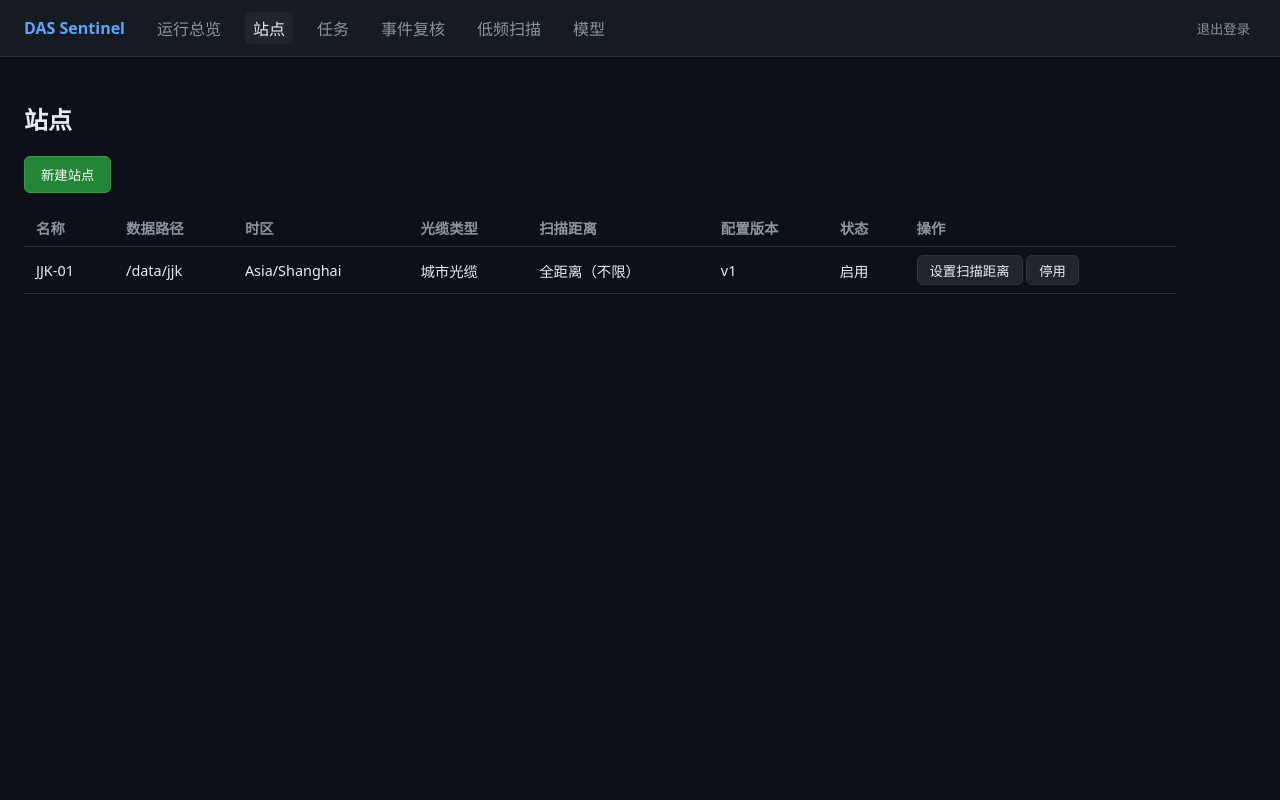
Scenario: rejects invalid scan distance -1 to  before saving
Click the button "设置扫描距离".
click(970, 270)  # box left=916, top=255, right=1022, bottom=285
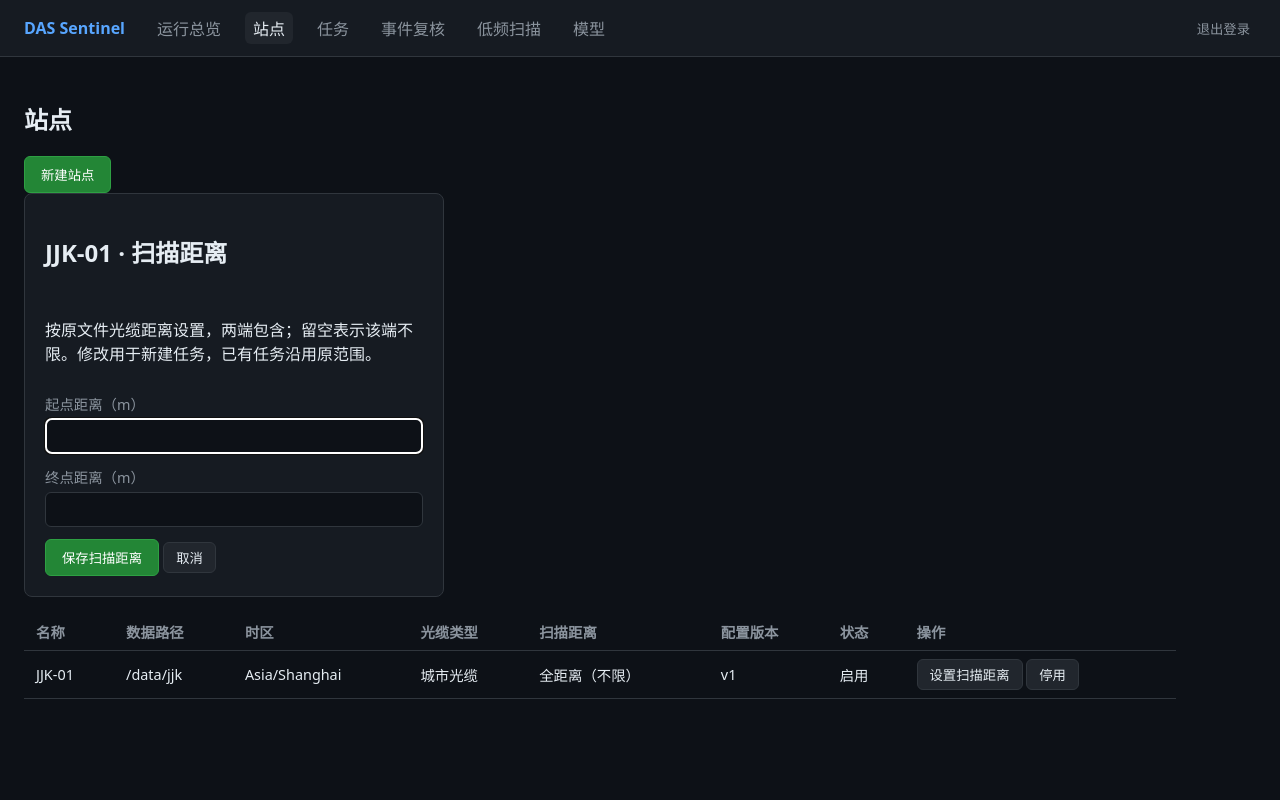
Type "-1" into the field labelled "起点距离（m）".
click(234, 436); type("-1")  # box left=45, top=418, right=423, bottom=454
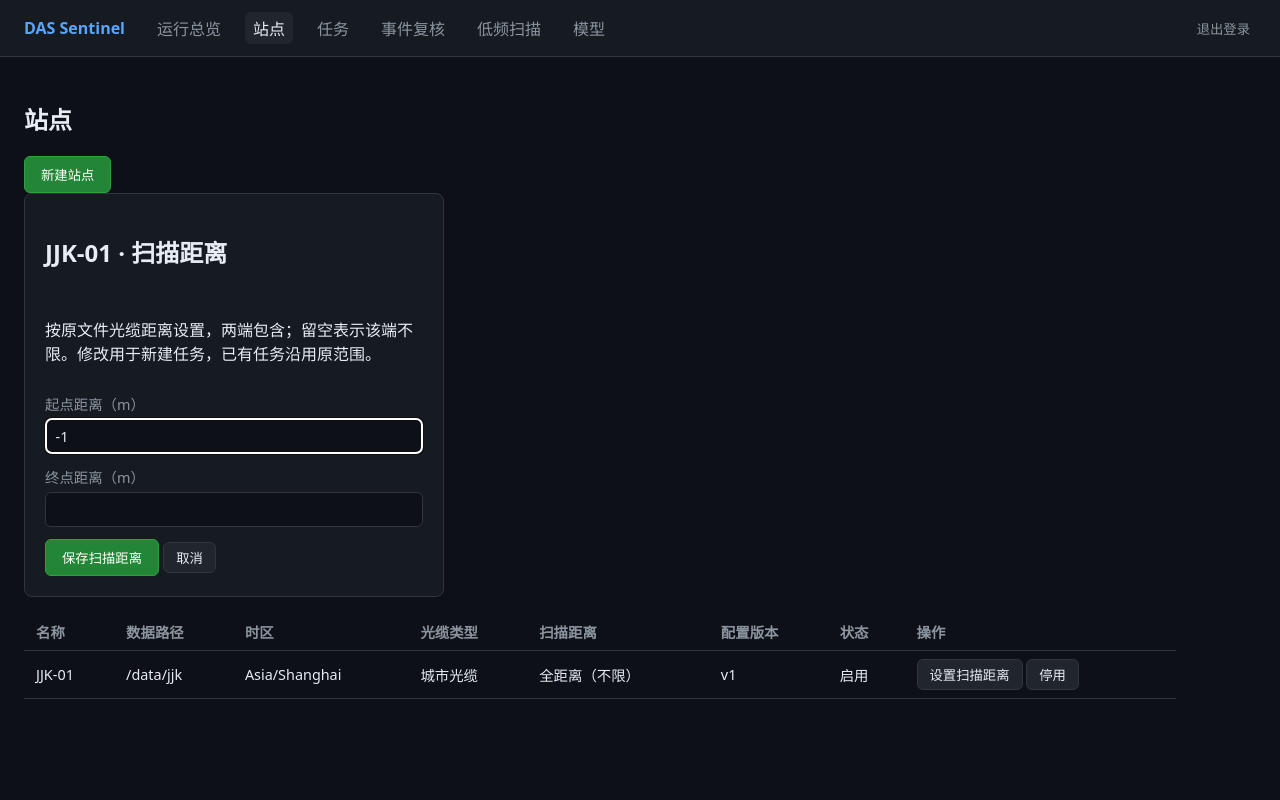
Click the button "保存扫描距离".
click(102, 558)  # box left=45, top=539, right=159, bottom=576
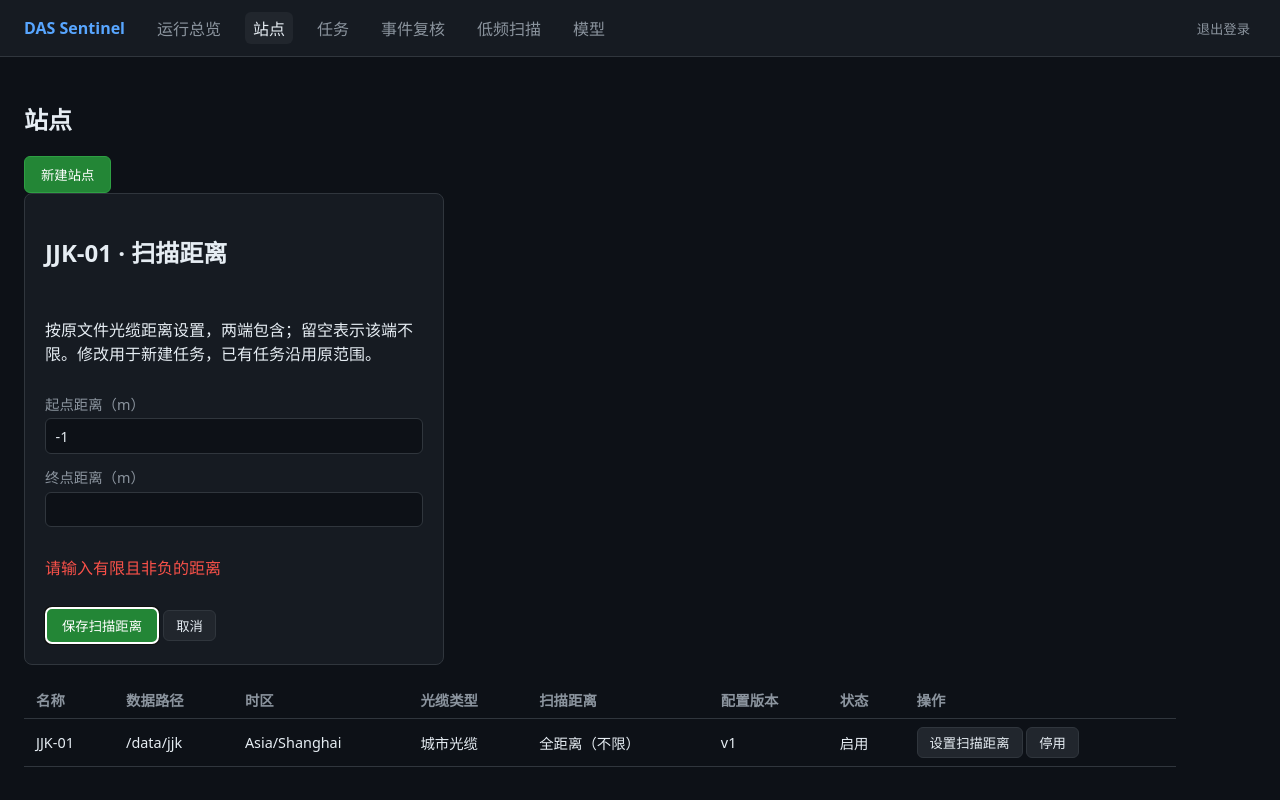
Check: the message reads "请输入有限且非负的距离", box left=45, top=557, right=221, bottom=579
